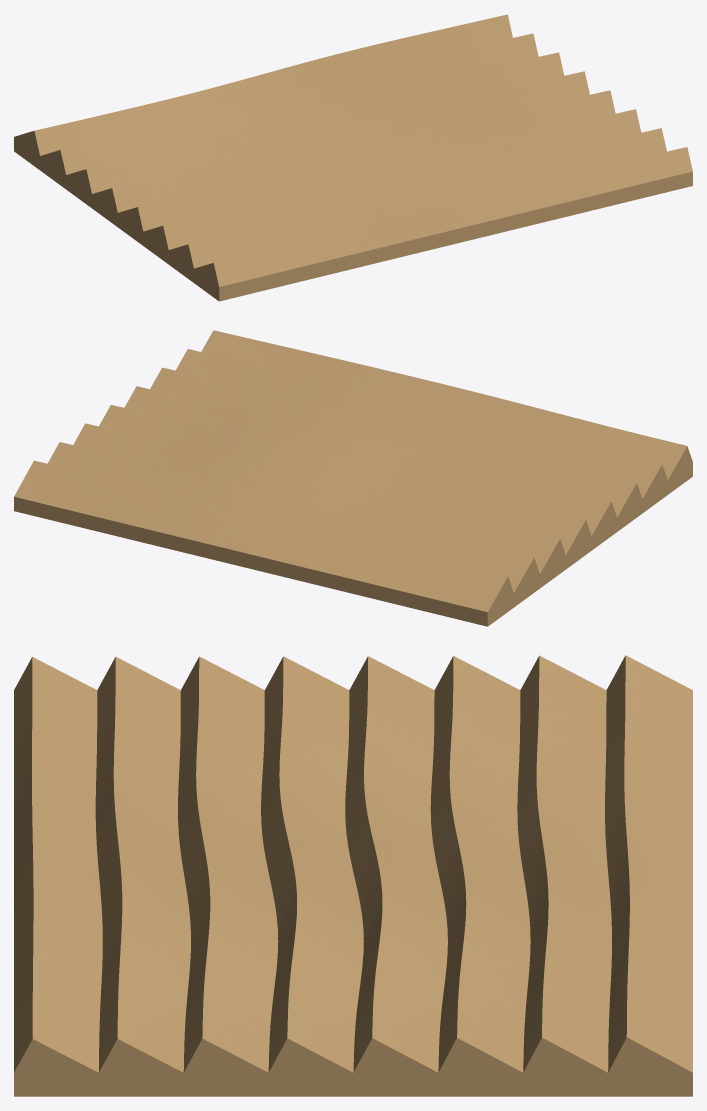
File: current-ripple-surface-r001.glb
3 views of the same model, one above another, from view 1: azimuth 30°, elevation 25°; view 2: azimuth 150°, elevation 25°; view 3: azimuth 270°, elevation 25° (orthographic). The views are drawn at different scales.
Visible parts, largest first — view 1: continuous_asymmetric_current_ripple_slab; view 2: continuous_asymmetric_current_ripple_slab; view 3: continuous_asymmetric_current_ripple_slab.
Boxes of the visible parts, x1,y1,x2,y2 form: continuous_asymmetric_current_ripple_slab: (14, 14, 692, 301); continuous_asymmetric_current_ripple_slab: (14, 330, 692, 626); continuous_asymmetric_current_ripple_slab: (14, 655, 692, 1096).
Bounding box in the file's own units: 1.2 × 0.0901 × 0.9.
